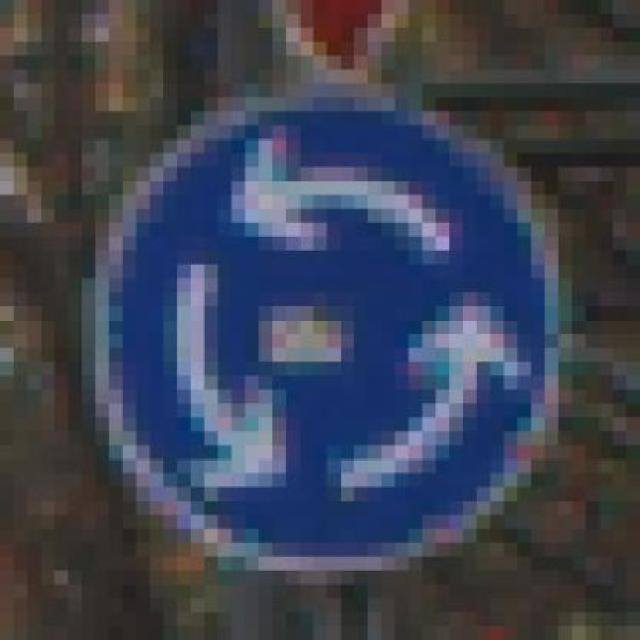Round-About: (69, 70, 613, 598)
